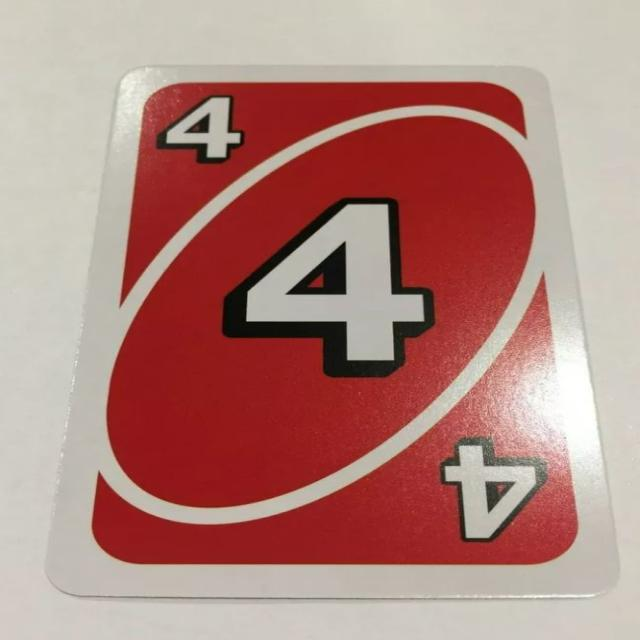Number_4: (148, 89, 254, 170)
Red_Card: (85, 76, 593, 574)
